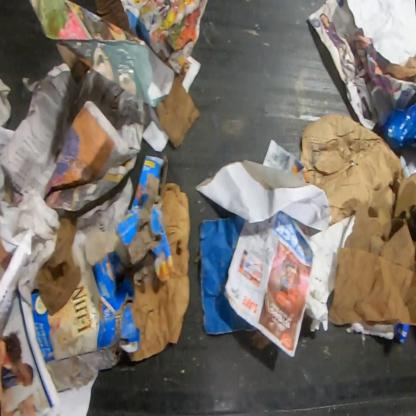cardboard: (17, 155, 177, 410), (152, 70, 202, 148), (92, 0, 138, 39)
soft_plastic: (378, 102, 415, 153)
